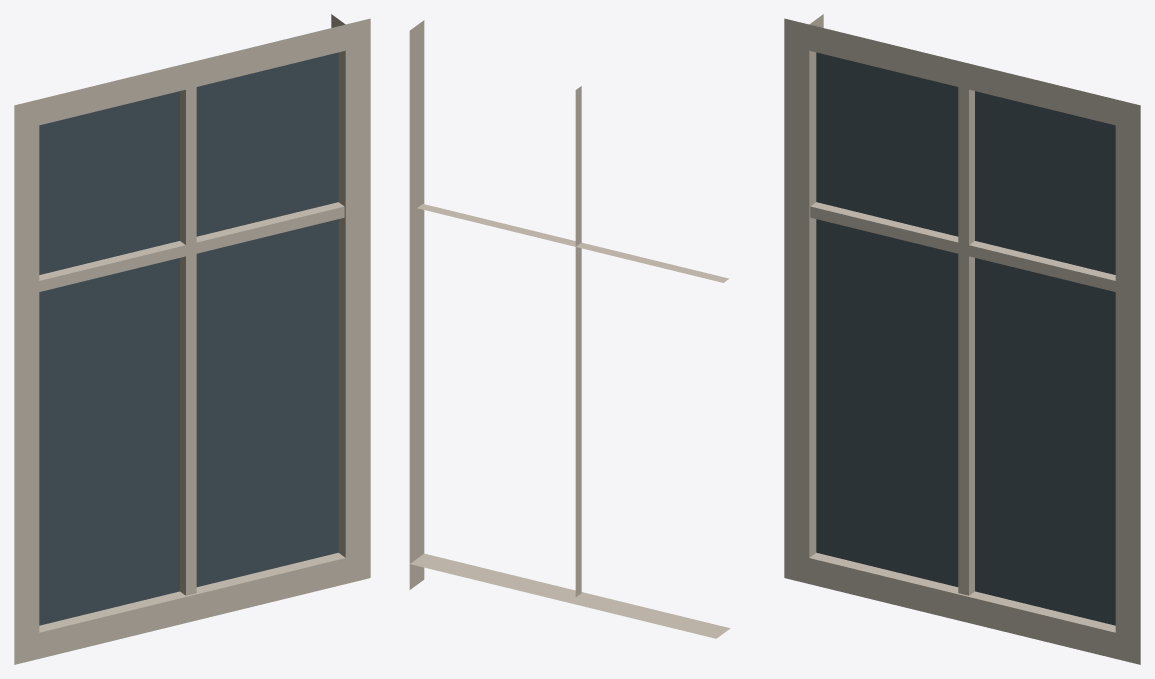
The model's file is window.glb.
3 views of the same model, side by side, from view 1: azimuth 30°, elevation 25°; view 2: azimuth 150°, elevation 25°; view 3: azimuth 330°, elevation 25° (orthographic).
Size of the model in its own units: 1 by 1.5 by 0.07.
